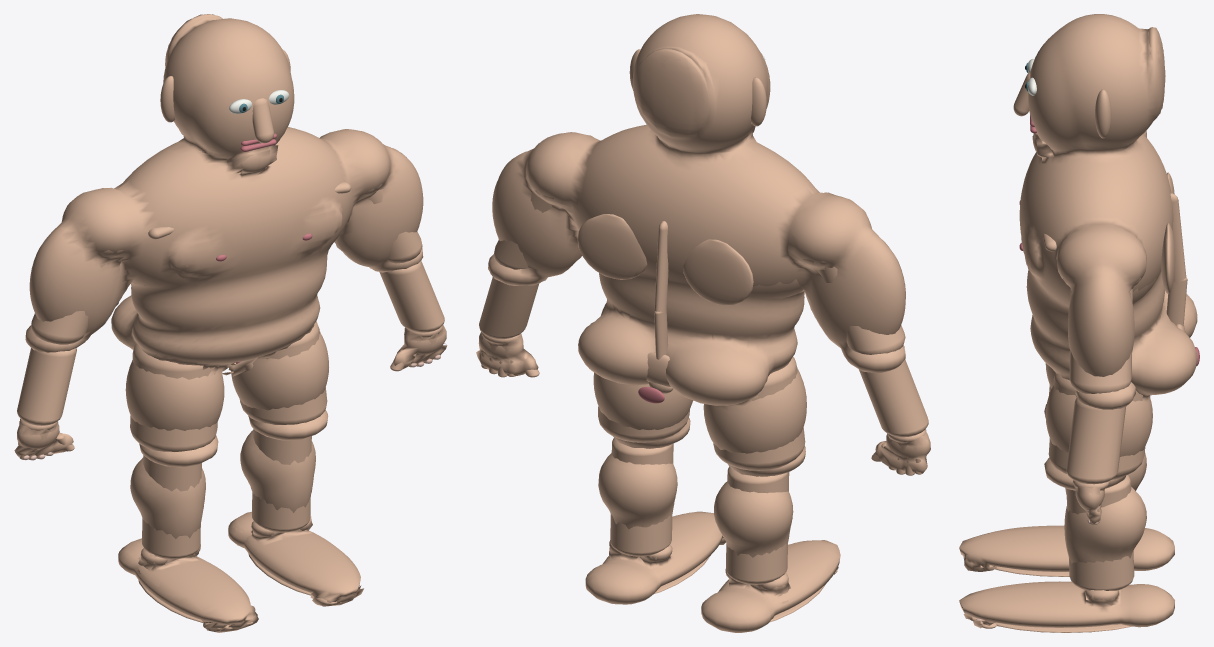
File: body-baby-maennlich-v2.glb
3 renders of one model, left to right at view 1: azimuth 30°, elevation 25°; view 2: azimuth 150°, elevation 25°; view 3: azimuth 270°, elevation 25°, orthographic. The views are drawn at different scales.
Parts seen in each view (by area): view 1: zone__visual-surface-body-baby-maennlich, zone__surface-forearm-left, zone__surface-thigh-left, zone__surface-forearm-right, zone__surface-lower-leg-right, zone__surface-lower-leg-left, zone__surface-thigh-right, zone__surface-upper-arm-left, zone__surface-upper-arm-right, zone__surface-nose; view 2: zone__visual-surface-body-baby-maennlich, zone__surface-scapula-left, zone__surface-scapula-right, zone__surface-forearm-left, zone__surface-lower-leg-right, zone__surface-lower-leg-left, zone__surface-forearm-right, zone__surface-thigh-left, zone__surface-upper-arm-left, zone__surface-thigh-right, zone__surface-thoracic-spine, zone__surface-upper-arm-right (+2 smaller); view 3: zone__visual-surface-body-baby-maennlich, zone__surface-forearm-right, zone__surface-lower-leg-right, zone__surface-upper-arm-right, zone__surface-thigh-right, zone__surface-thoracic-spine, zone__surface-scapula-right, zone__surface-lumbar-spine, zone__surface-sole-right, zone__surface-ear-right, zone__surface-nose, zone__surface-sole-left.
Boxes of the visible parts, bbox=[...] form: zone__visual-surface-body-baby-maennlich: bbox=[14, 14, 447, 632]; zone__surface-forearm-left: bbox=[17, 348, 76, 425]; zone__surface-thigh-left: bbox=[130, 344, 218, 451]; zone__surface-forearm-right: bbox=[379, 261, 444, 332]; zone__surface-lower-leg-right: bbox=[252, 429, 311, 532]; zone__surface-lower-leg-left: bbox=[142, 455, 201, 559]; zone__surface-thigh-right: bbox=[239, 321, 327, 424]; zone__surface-upper-arm-left: bbox=[31, 259, 110, 344]; zone__surface-upper-arm-right: bbox=[368, 189, 422, 263]; zone__surface-nose: bbox=[252, 98, 274, 143]; zone__visual-surface-body-baby-maennlich: bbox=[476, 14, 930, 632]; zone__surface-scapula-left: bbox=[683, 239, 753, 305]; zone__surface-scapula-right: bbox=[577, 214, 647, 279]; zone__surface-forearm-left: bbox=[859, 359, 928, 437]; zone__surface-lower-leg-right: bbox=[610, 438, 673, 556]; zone__surface-lower-leg-left: bbox=[726, 466, 789, 584]; zone__surface-forearm-right: bbox=[479, 277, 539, 339]; zone__surface-thigh-left: bbox=[713, 357, 805, 470]; zone__surface-upper-arm-left: bbox=[817, 266, 905, 354]; zone__surface-thigh-right: bbox=[598, 406, 689, 442]; zone__surface-thoracic-spine: bbox=[654, 221, 668, 315]; zone__surface-upper-arm-right: bbox=[493, 193, 552, 269]; zone__visual-surface-body-baby-maennlich: bbox=[959, 14, 1197, 628]; zone__surface-forearm-right: bbox=[1066, 397, 1126, 484]; zone__surface-lower-leg-right: bbox=[1066, 475, 1134, 590]; zone__surface-upper-arm-right: bbox=[1069, 288, 1132, 393]; zone__surface-thigh-right: bbox=[1048, 372, 1145, 479]; zone__surface-thoracic-spine: bbox=[1170, 193, 1186, 284]; zone__surface-scapula-right: bbox=[1161, 223, 1175, 293]; zone__surface-lumbar-spine: bbox=[1166, 277, 1187, 325]; zone__surface-sole-right: bbox=[995, 622, 1132, 632]; zone__surface-ear-right: bbox=[1095, 89, 1111, 138]; zone__surface-nose: bbox=[1013, 71, 1030, 116]; zone__surface-sole-left: bbox=[995, 566, 1069, 576].
Bounding box in the file's own units: 0.558 × 0.6845 × 0.2598.
